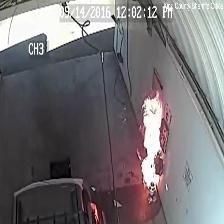fire: (133, 87, 167, 194)
